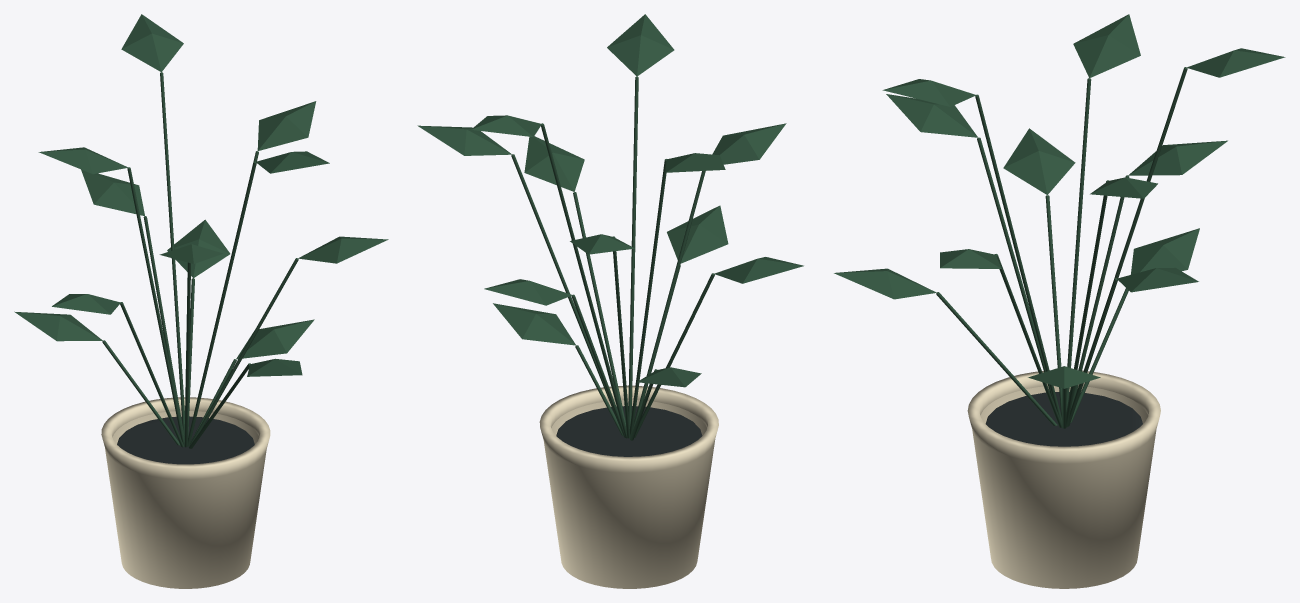
Rendered from modern-bar-plant.glb.
3 views of the same model, side by side, from view 1: azimuth 30°, elevation 25°; view 2: azimuth 150°, elevation 25°; view 3: azimuth 270°, elevation 25° (orthographic). The views are drawn at different scales.
Visible parts, largest first — view 1: modern-bar-plant - Modern Bar rubber plant leaves runtime PB, modern-bar-plant - Modern Bar ivory ceramic runtime PBR, modern-bar-plant - Modern Bar powder coated charcoal steel r; view 2: modern-bar-plant - Modern Bar rubber plant leaves runtime PB, modern-bar-plant - Modern Bar ivory ceramic runtime PBR, modern-bar-plant - Modern Bar powder coated charcoal steel r; view 3: modern-bar-plant - Modern Bar rubber plant leaves runtime PB, modern-bar-plant - Modern Bar ivory ceramic runtime PBR, modern-bar-plant - Modern Bar powder coated charcoal steel r.
Boxes of the visible parts, left/top/right/bottom form: modern-bar-plant - Modern Bar rubber plant leaves runtime PB: left=14, top=14, right=388, bottom=448; modern-bar-plant - Modern Bar ivory ceramic runtime PBR: left=101, top=397, right=270, bottom=588; modern-bar-plant - Modern Bar powder coated charcoal steel r: left=117, top=416, right=254, bottom=464; modern-bar-plant - Modern Bar rubber plant leaves runtime PB: left=417, top=14, right=803, bottom=440; modern-bar-plant - Modern Bar ivory ceramic runtime PBR: left=539, top=385, right=718, bottom=588; modern-bar-plant - Modern Bar powder coated charcoal steel r: left=556, top=406, right=702, bottom=456; modern-bar-plant - Modern Bar rubber plant leaves runtime PB: left=834, top=14, right=1285, bottom=428; modern-bar-plant - Modern Bar ivory ceramic runtime PBR: left=967, top=370, right=1160, bottom=588; modern-bar-plant - Modern Bar powder coated charcoal steel r: left=985, top=392, right=1142, bottom=446.
Bounding box in the file's own units: 1.08 × 1.51 × 1.17.
